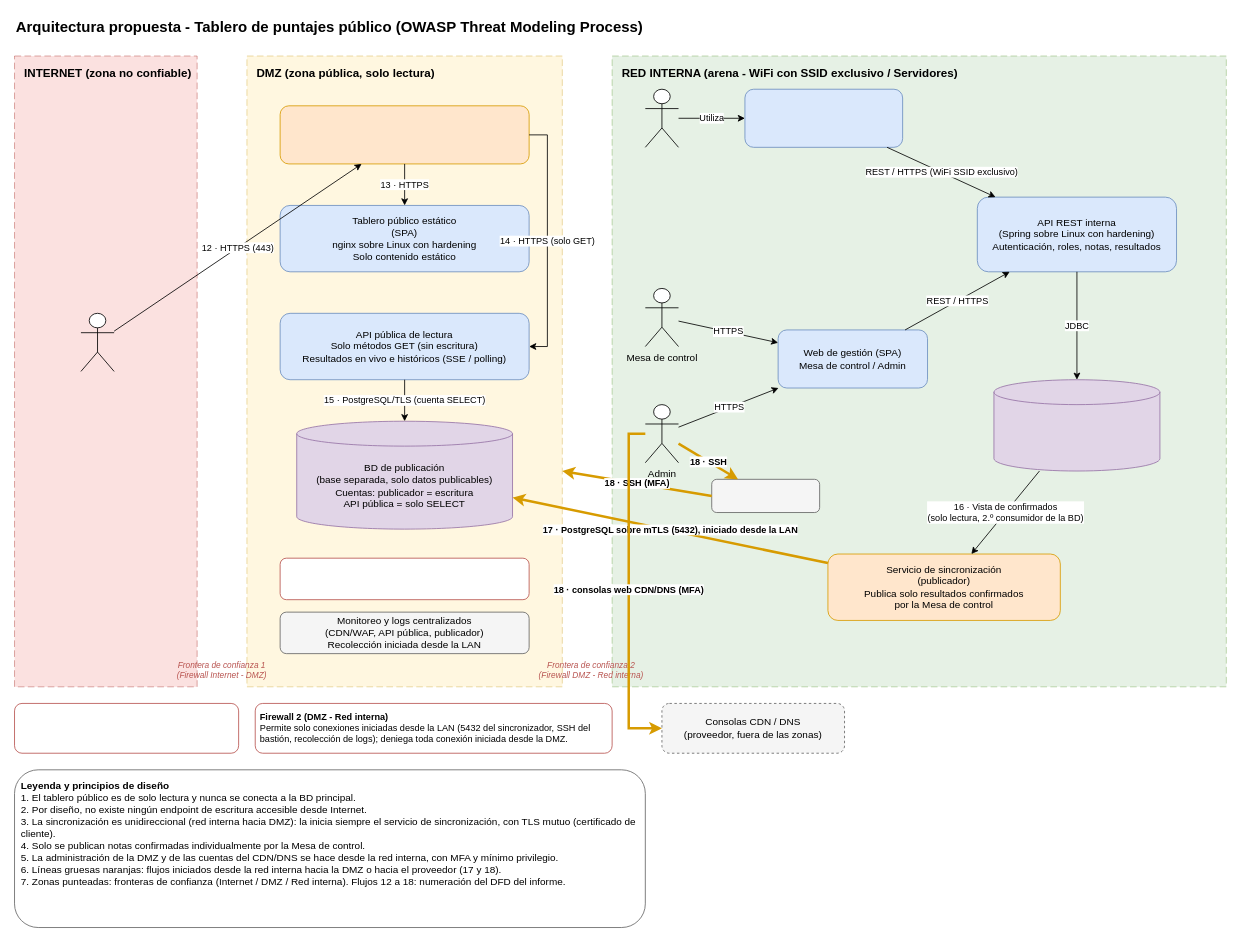
The diagram is 1241 pixels wide and 942 high, and some of its shapes have lost their labels. The shapes that lost their labels are listed below. From the top down, each one's centre as x and y in pixels, then its label:
[404,134]: CDN / WAF / Reverse proxy (TLS 1.2+, HSTS, rate limiting)
[661,117]: Juez
[823,117]: APP Mobile (tableta Android de la federación)
[97,341]: Público anónimo
[1076,425]: BD principal (PostgreSQL) Notas, gimnastas, torneos
[765,495]: Bastión (SSH, MFA)
[404,578]: La DMZ NO puede iniciar conexiones hacia la red interna
[126,728]: Firewall 1 (Internet - DMZ) Permite 443 entrante al CDN; deniega el resto.
